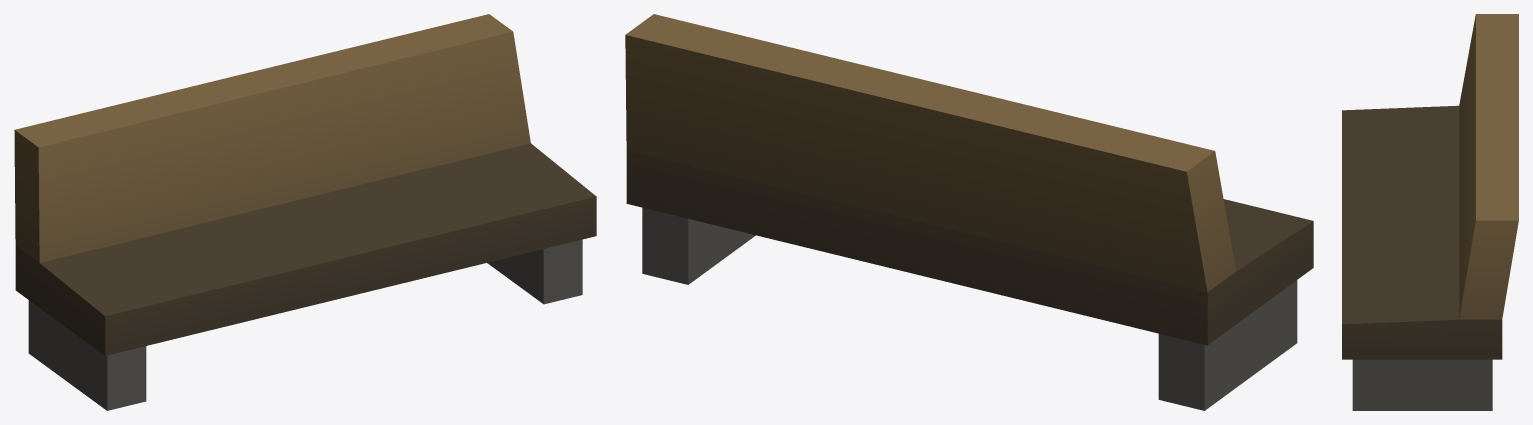
The model's file is Bench_2.fbx.
3 renders of one model, left to right at view 1: azimuth 30°, elevation 25°; view 2: azimuth 150°, elevation 25°; view 3: azimuth 270°, elevation 25°, orthographic. The views are drawn at different scales.
Parts seen in each view (by area): view 1: Bench_2; view 2: Bench_2; view 3: Bench_2.
Boxes of the visible parts, x1,y1,x2,y2 form: Bench_2: [14, 14, 596, 410]; Bench_2: [625, 14, 1313, 410]; Bench_2: [1342, 14, 1518, 410].
Size of the model in its own units: 354 by 147 by 124.
